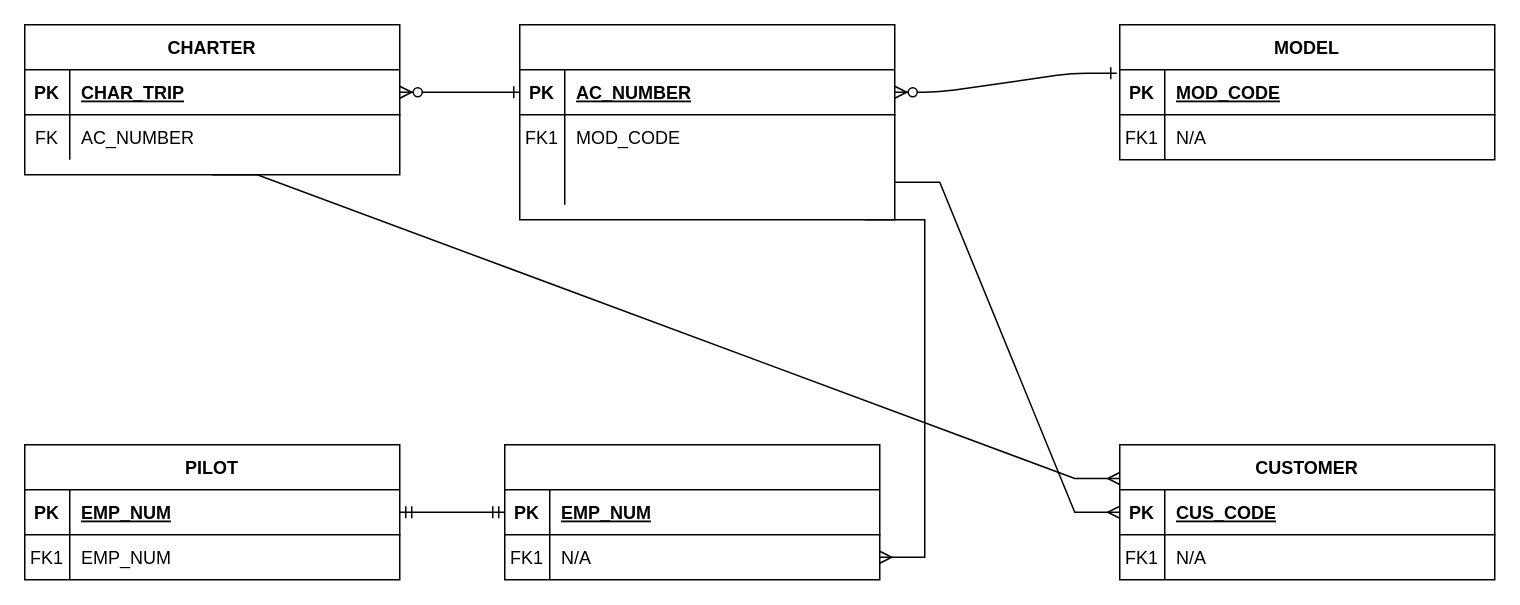
The diagram is 1520 pixels wide and 605 high, and some of its shapes have lost their labels. Each missing label, with the box of its shape:
AIRCRAFT: (518, 23, 895, 220)
EMPLOYEE: (503, 443, 880, 580)
